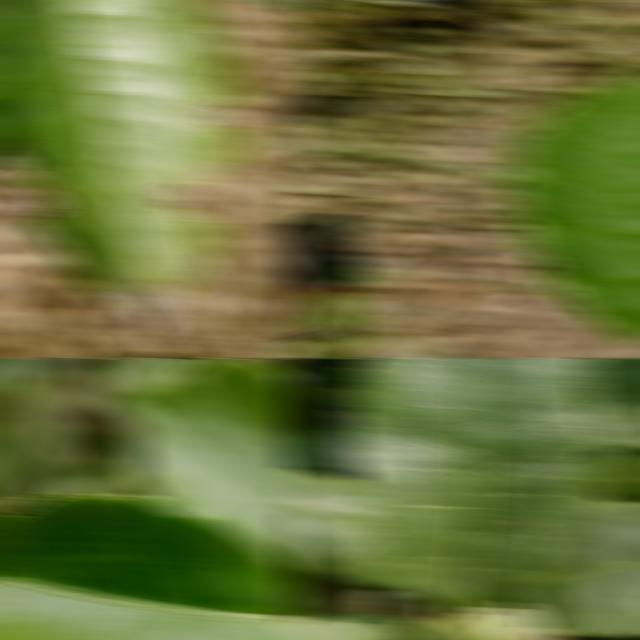Leaf: (0, 0, 252, 351), (338, 358, 608, 613), (0, 494, 303, 640), (114, 358, 303, 570), (503, 67, 640, 341), (487, 501, 640, 636), (285, 468, 410, 589), (285, 213, 367, 358), (0, 377, 76, 504), (581, 358, 640, 450), (97, 358, 191, 408), (285, 426, 362, 478), (285, 612, 428, 640), (579, 448, 640, 501), (285, 358, 350, 384)
